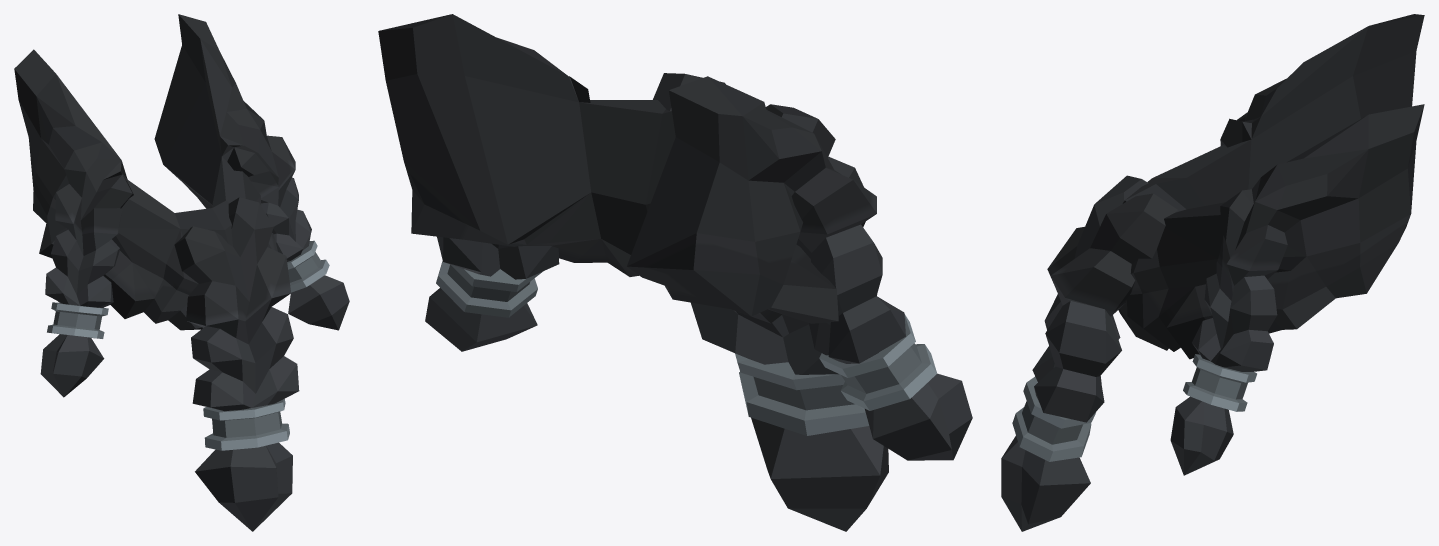
The model's file is SM_Chr_Attach_Beard_01.fbx.
3 views of the same model, side by side, from view 1: azimuth 30°, elevation 25°; view 2: azimuth 150°, elevation 25°; view 3: azimuth 270°, elevation 25° (orthographic). The views are drawn at different scales.
Visible parts, largest first — view 1: SM_Chr_Attach_Beard_01; view 2: SM_Chr_Attach_Beard_01; view 3: SM_Chr_Attach_Beard_01.
Part boxes in pixels (box(x1,y1,x2,y2)): SM_Chr_Attach_Beard_01: box(14, 14, 349, 531); SM_Chr_Attach_Beard_01: box(378, 14, 972, 531); SM_Chr_Attach_Beard_01: box(1001, 14, 1424, 531).
Bounding box in the file's own units: 34.33 × 41.98 × 33.54.
